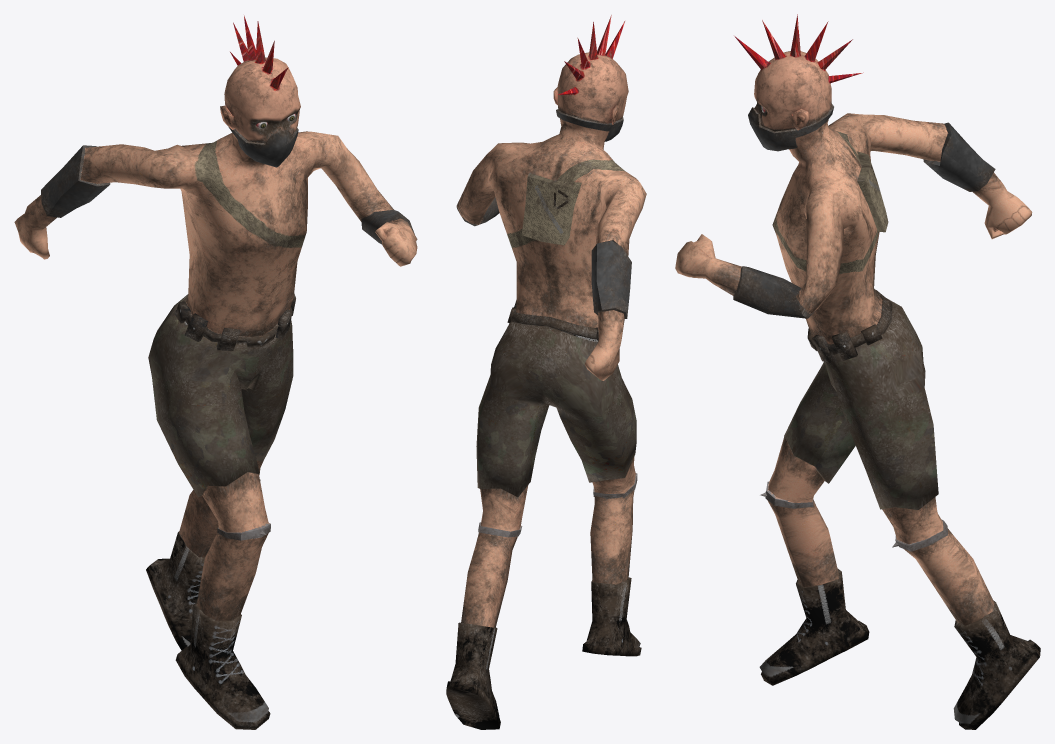
The model's file is Anim_correr_npc2.0030.obj.
3 views of the same model, side by side, from view 1: azimuth 30°, elevation 25°; view 2: azimuth 150°, elevation 25°; view 3: azimuth 270°, elevation 25° (orthographic). The views are drawn at different scales.
Parts seen in each view (by area): view 1: Anim_correr_npc2; view 2: Anim_correr_npc2; view 3: Anim_correr_npc2.
Boxes of the visible parts, bbox=[...] form: Anim_correr_npc2: bbox=[14, 15, 417, 729]; Anim_correr_npc2: bbox=[446, 15, 646, 729]; Anim_correr_npc2: bbox=[675, 14, 1040, 729].
Size of the model in its own units: 4.2 by 10.4 by 4.93.
